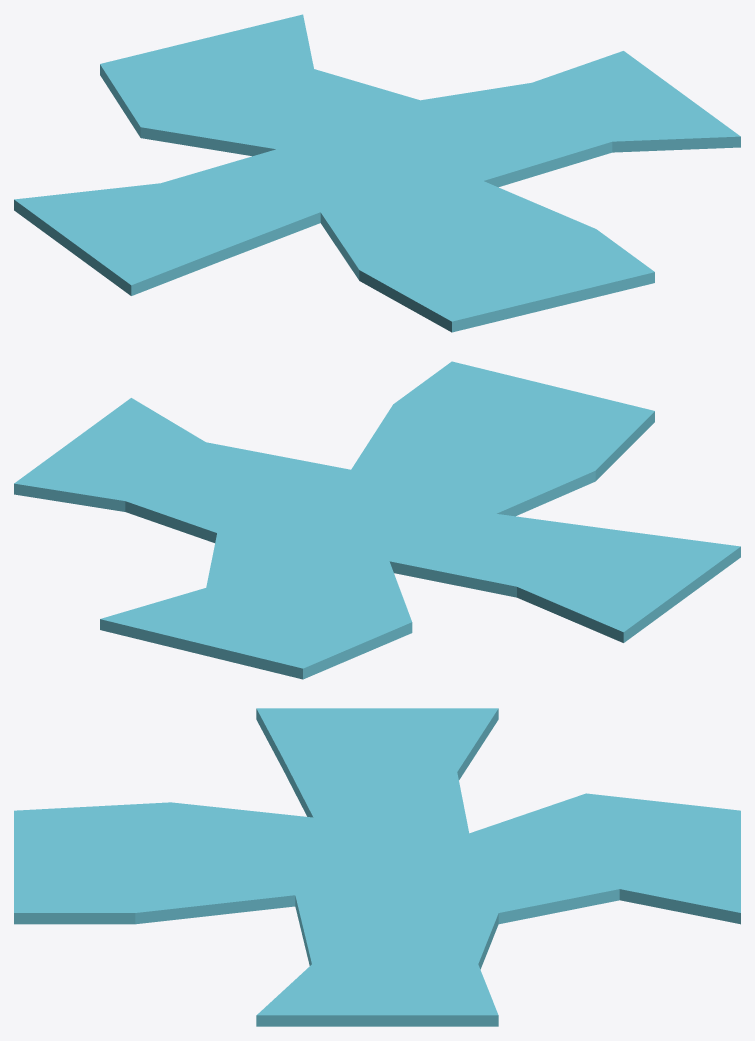
Rendered from WaterFour.fbx.
The picture shows the model from 3 angles, top to bottom: view 1: azimuth 30°, elevation 25°; view 2: azimuth 150°, elevation 25°; view 3: azimuth 270°, elevation 25°; orthographic projection. The views are drawn at different scales.
Visible parts, largest first — view 1: WaterFour; view 2: WaterFour; view 3: WaterFour.
Part boxes in pixels (x1=…): WaterFour: x1=14, y1=14, x2=740, y2=332; WaterFour: x1=14, y1=361, x2=740, y2=679; WaterFour: x1=14, y1=708, x2=740, y2=1026.
Bounding box in the file's own units: 340 × 5.82 × 340.
